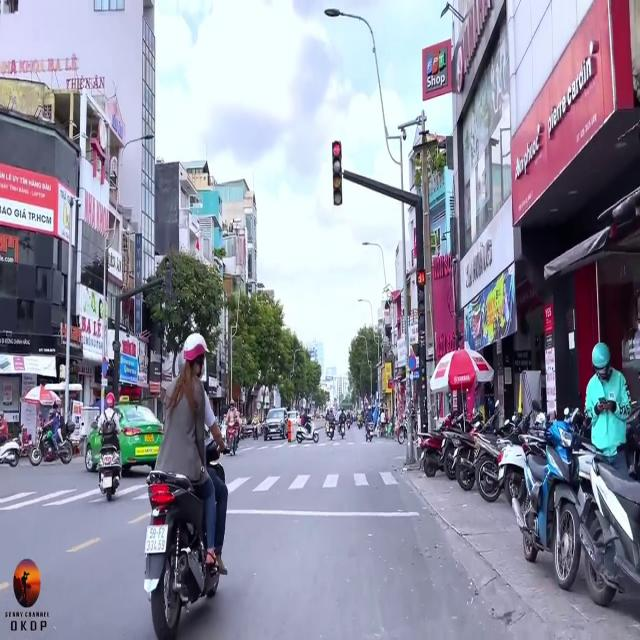bien_trang: (143, 523, 169, 550)
